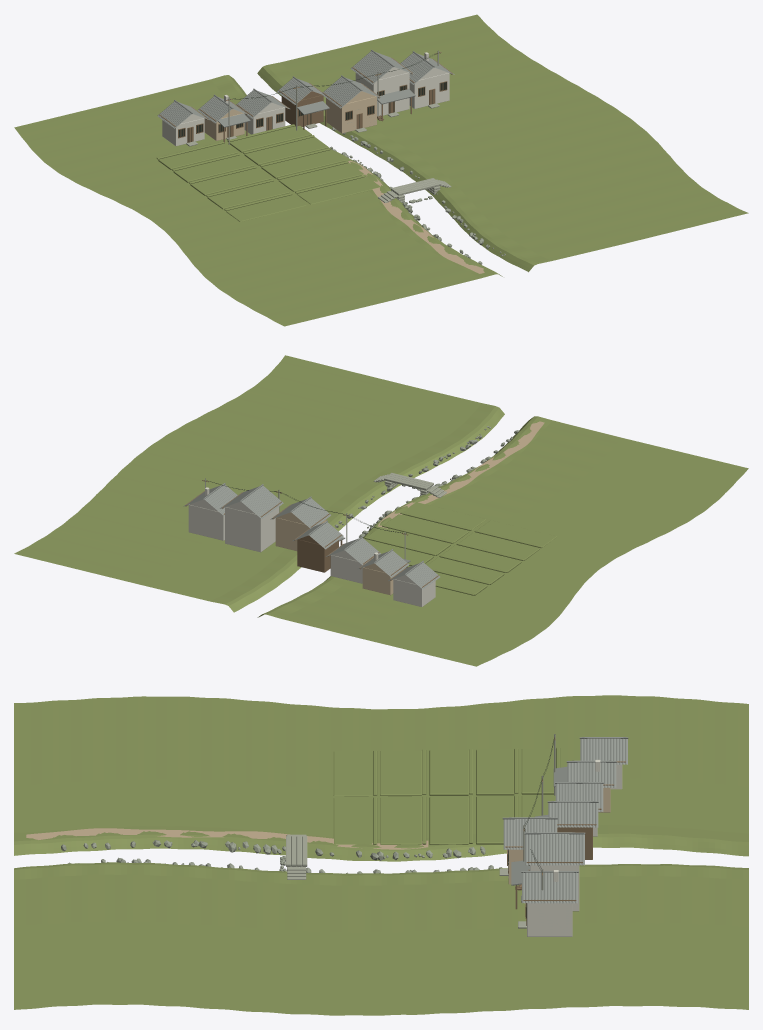
Rendered from countryside.glb.
3 renders of one model, top to bottom at view 1: azimuth 30°, elevation 25°; view 2: azimuth 150°, elevation 25°; view 3: azimuth 270°, elevation 25°, orthographic. The views are drawn at different scales.
Visible parts, largest first — view 1: terrain_ground, village_roof, village_plaster, village_wood, village_earthwall, terrain_soil, terrain_rock, village_dark, bridge_stone, village_stone; view 2: terrain_ground, village_plaster, village_roof, village_earthwall, village_wood, terrain_soil, terrain_rock, bridge_stone; view 3: terrain_ground, village_roof, village_plaster, terrain_rock, terrain_soil, bridge_stone, village_wood.
Boxes of the visible parts, <box> form: terrain_ground: <box>14,14,748,326</box>; village_roof: <box>157,49,454,128</box>; village_plaster: <box>162,52,449,146</box>; village_wood: <box>159,52,452,142</box>; village_earthwall: <box>204,91,376,140</box>; terrain_soil: <box>348,160,484,273</box>; terrain_rock: <box>329,127,505,264</box>; village_dark: <box>179,52,446,142</box>; bridge_stone: <box>378,178,451,202</box>; village_stone: <box>186,50,439,146</box>; terrain_ground: <box>14,355,748,666</box>; village_plaster: <box>188,487,435,606</box>; village_roof: <box>183,483,440,589</box>; village_earthwall: <box>275,512,403,595</box>; village_wood: <box>185,480,438,587</box>; terrain_soil: <box>377,421,544,528</box>; terrain_rock: <box>334,426,519,537</box>; bridge_stone: <box>373,472,446,497</box>; terrain_ground: <box>14,695,748,1015</box>; village_roof: <box>502,737,628,903</box>; village_plaster: <box>527,759,622,936</box>; terrain_rock: <box>61,840,502,873</box>; terrain_soil: <box>26,828,428,849</box>; bridge_stone: <box>286,834,307,879</box>; village_wood: <box>505,738,625,925</box>.
Bounding box in the file's own units: 61.63 × 6.75 × 59.8.
